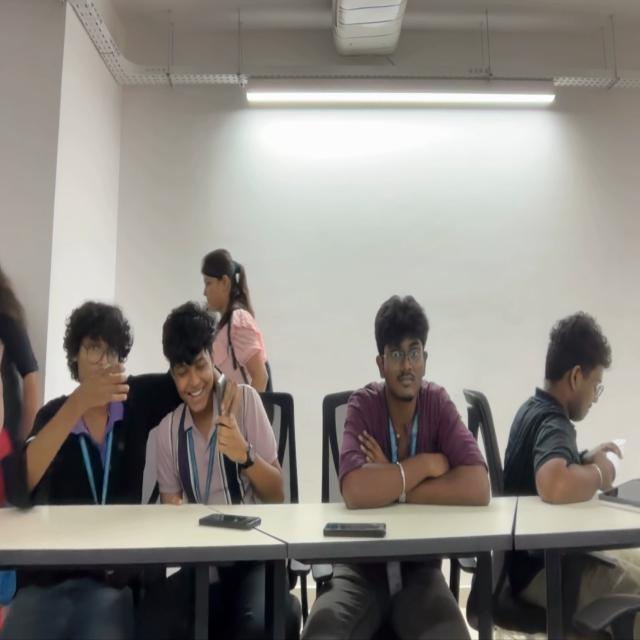Isolated: (329, 290, 492, 510), (510, 308, 619, 494)
socializing: (0, 235, 288, 504)
